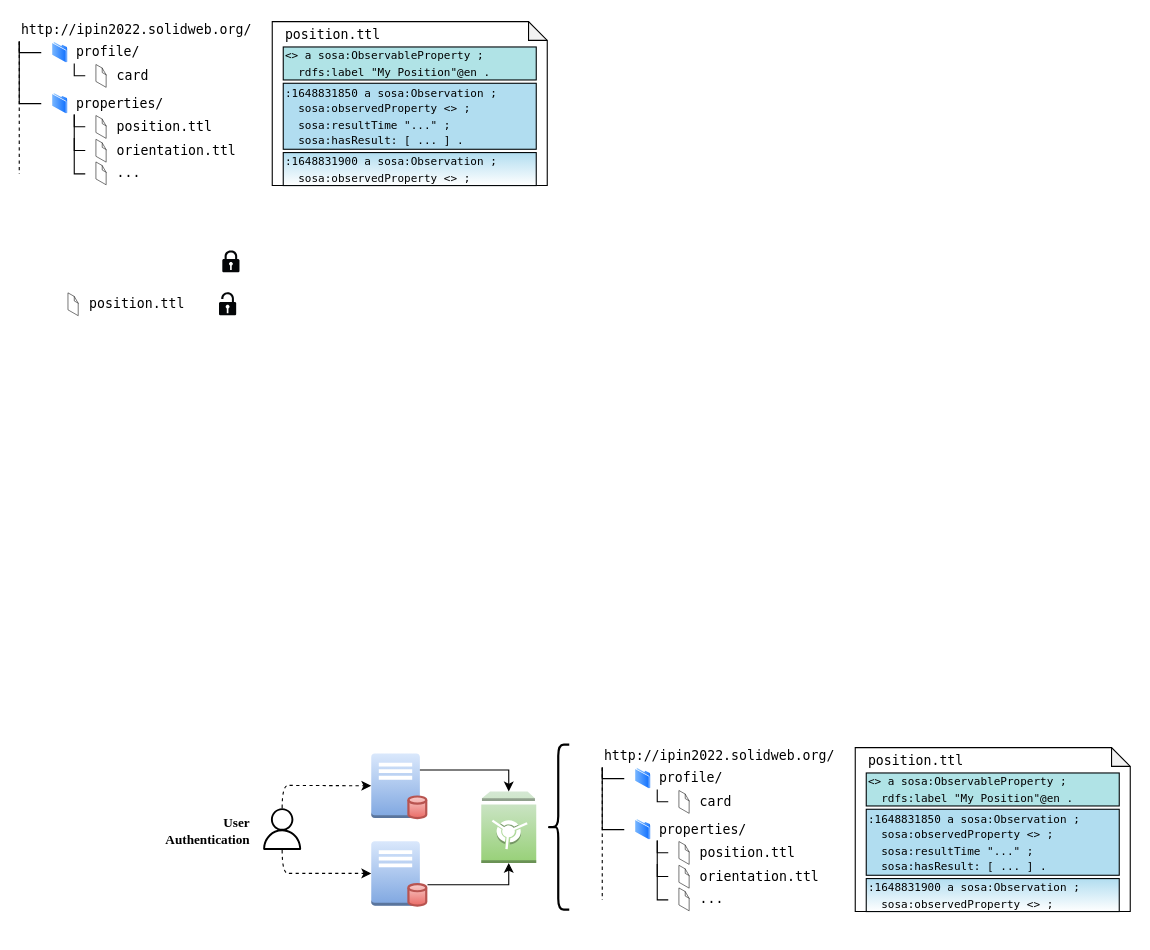
Image size: 1150x950. Some labels were removed from this diagram. The box of each missing label's shape, as (x1, y1, x2, y2) in pixels:
Positioning System A: (370, 753, 420, 818)
Positioning System B: (370, 840, 420, 906)
